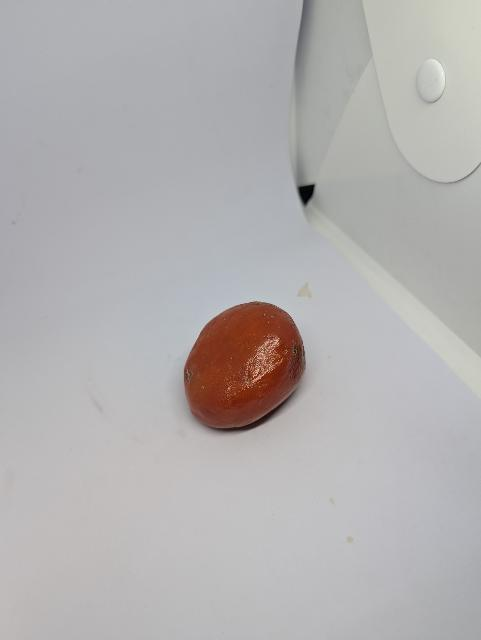defect: (183, 296, 311, 432)
